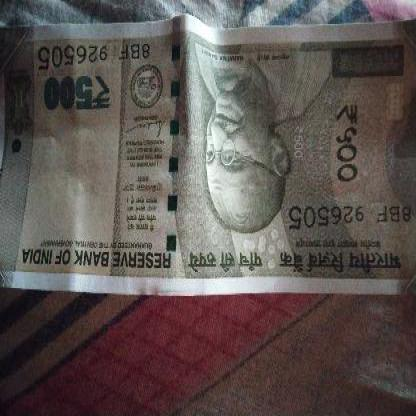New500Front: (0, 24, 416, 292)
